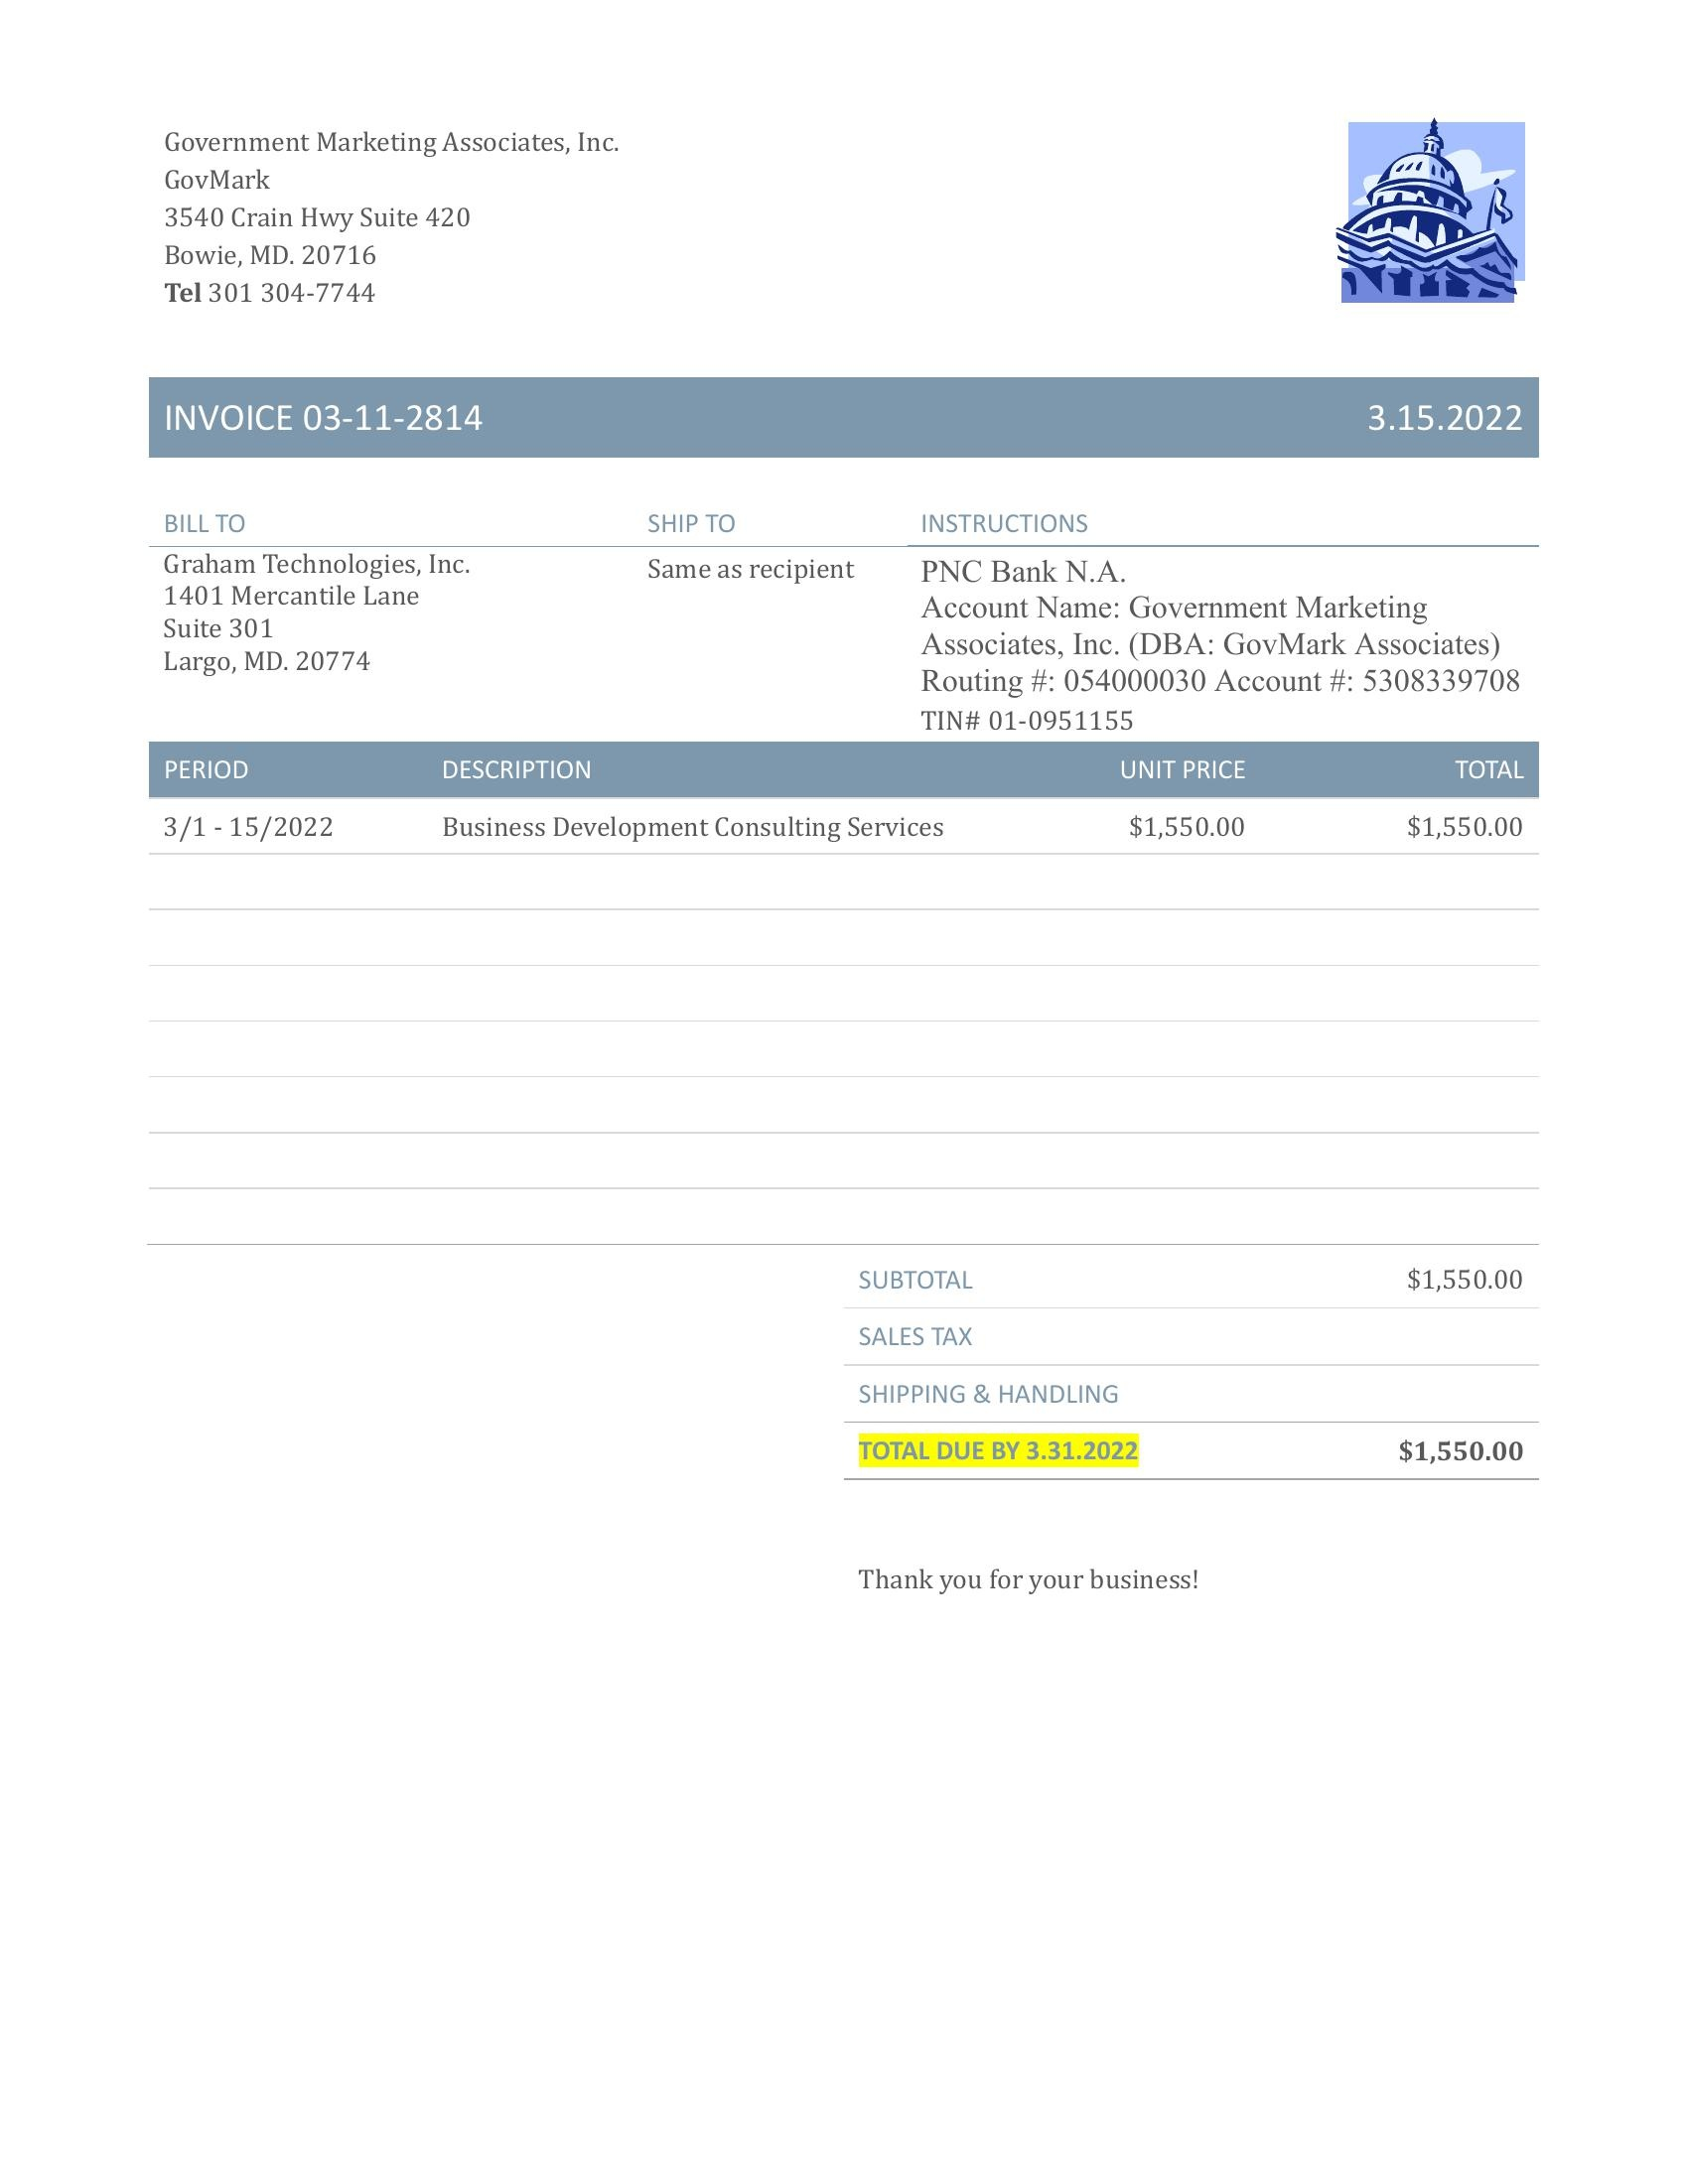0 table: (96, 746, 1557, 968)
